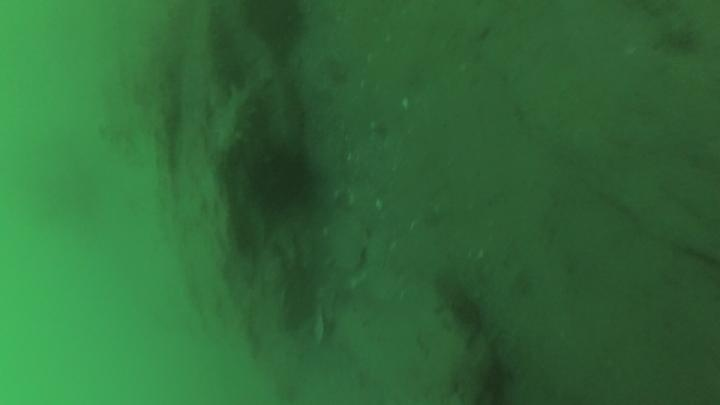echinus: (239, 138, 319, 216), (240, 1, 309, 51)
holothurian: (206, 74, 273, 159)
